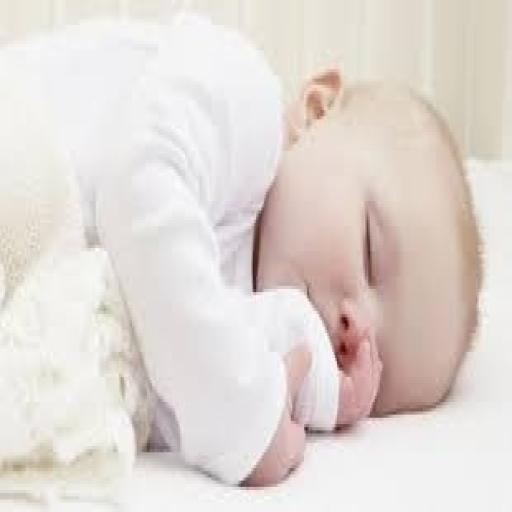sleeping: (0, 9, 486, 490)
